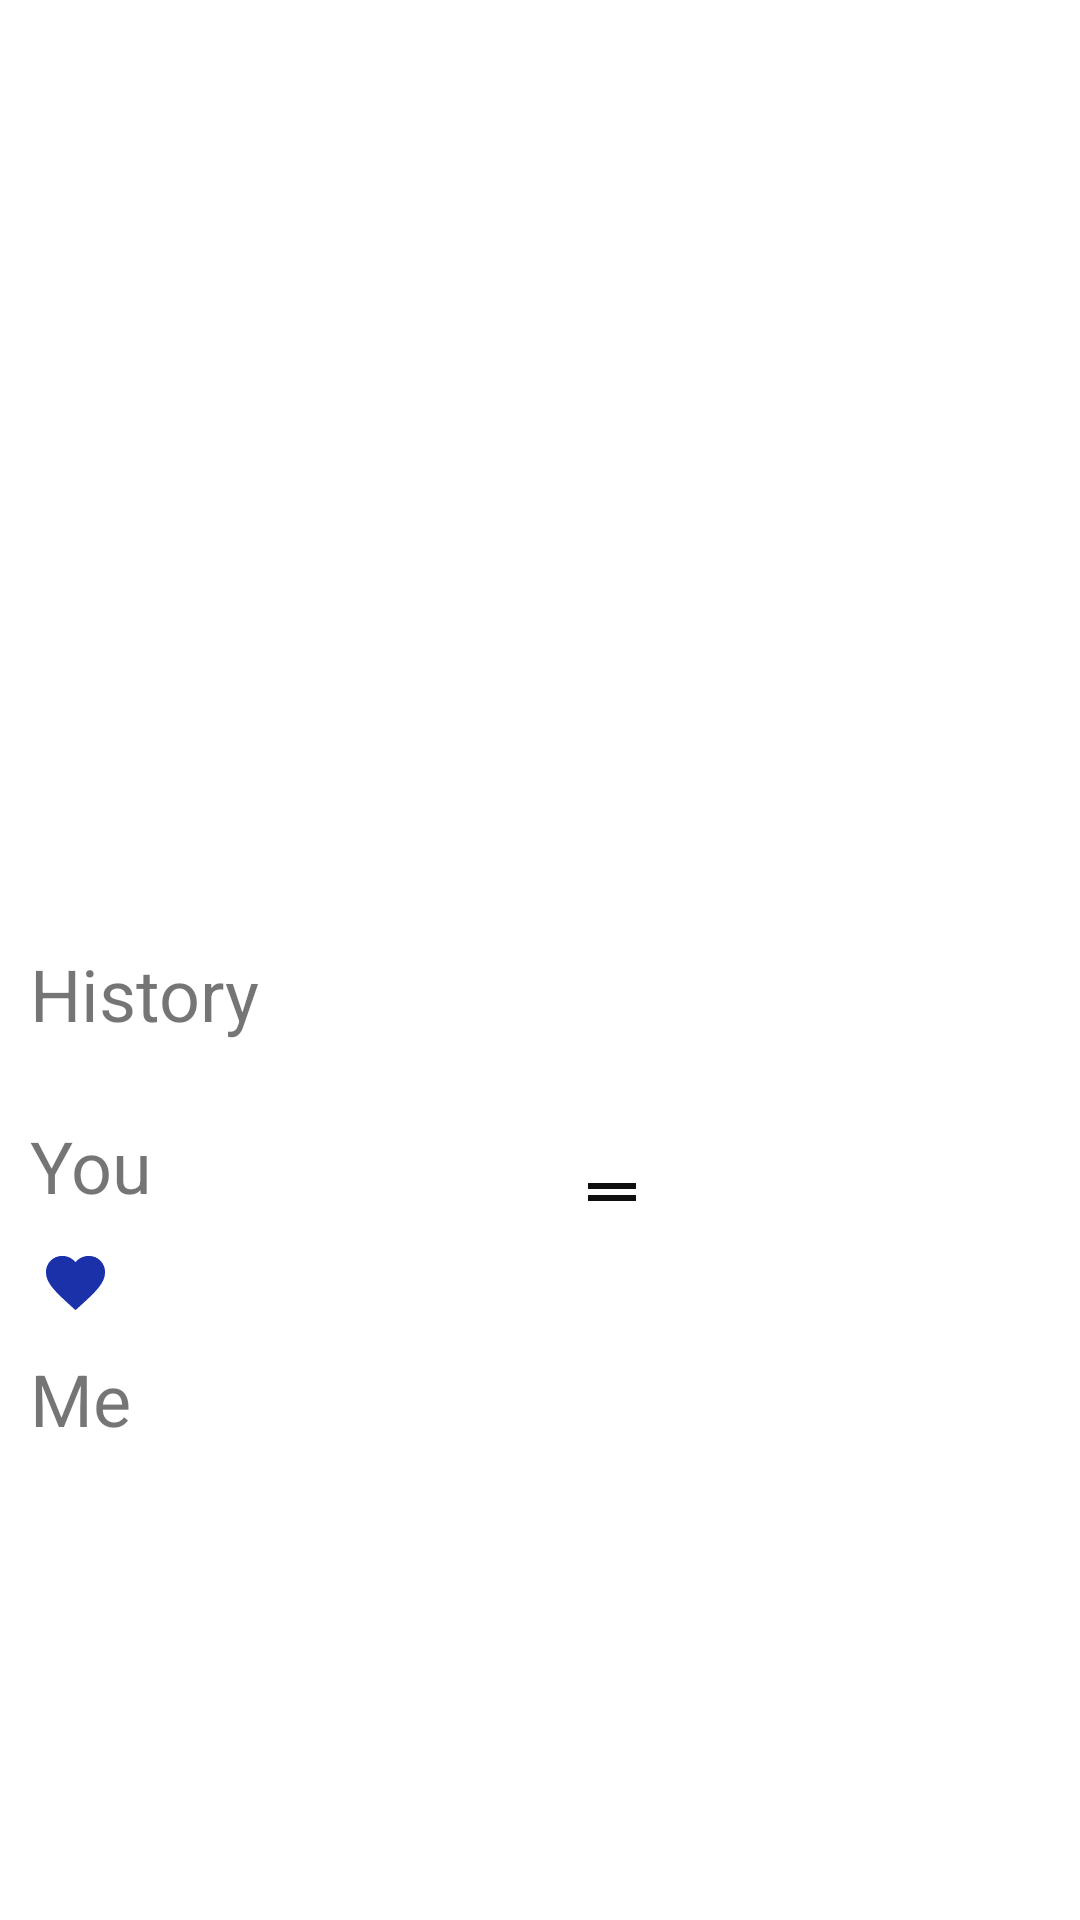

Screen size 1080w x 1920h. Icon name, then its center in pixels as (x=x, y=y):
barabar: (x=612, y=1192)
